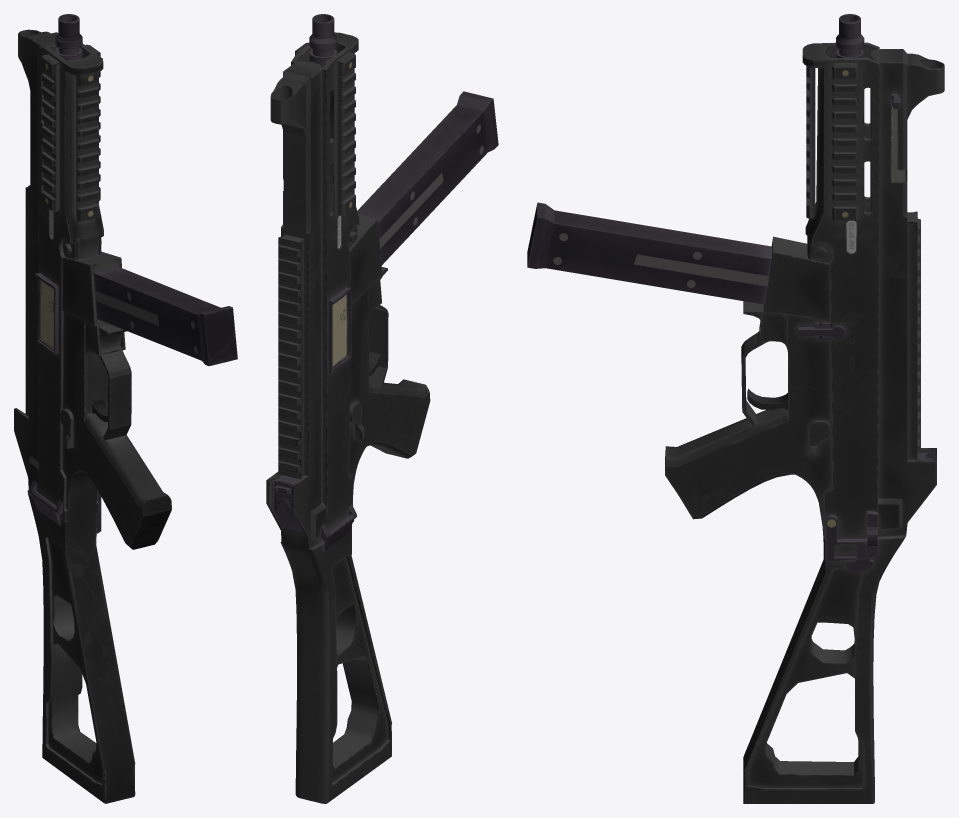
File: ump45.glb
The picture shows the model from 3 angles, left to right: view 1: azimuth 30°, elevation 25°; view 2: azimuth 150°, elevation 25°; view 3: azimuth 270°, elevation 25°; orthographic projection. The views are drawn at different scales.
Visible parts, largest first — view 1: Line001_Base_0, Box003_Mag_0, Box005_Parts_0; view 2: Line001_Base_0, Box003_Mag_0, Box005_Parts_0; view 3: Line001_Base_0, Box003_Mag_0, Box005_Parts_0.
Boxes of the visible parts, x1,y1,x2,y2 form: Line001_Base_0: [14, 29, 171, 803]; Box003_Mag_0: [93, 267, 237, 366]; Box005_Parts_0: [28, 14, 101, 533]; Line001_Base_0: [266, 32, 430, 803]; Box003_Mag_0: [357, 91, 498, 265]; Box005_Parts_0: [271, 14, 356, 550]; Line001_Base_0: [665, 42, 944, 803]; Box003_Mag_0: [527, 202, 771, 304]; Box005_Parts_0: [796, 14, 935, 572].
Size of the model in its own units: 0.0387 by 0.55 by 0.2675.
4 materials, 4 textured.
